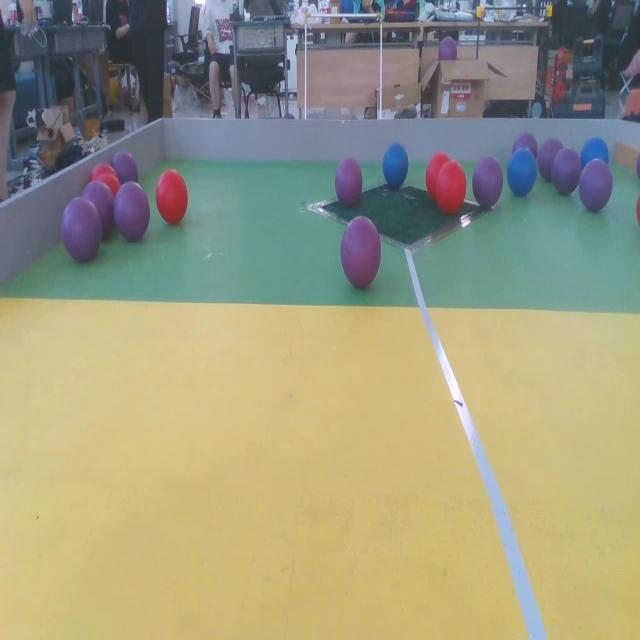blue: (508, 146, 537, 194), (580, 136, 610, 177), (382, 143, 409, 188)
invalid: (339, 214, 385, 289), (62, 197, 101, 263), (115, 179, 154, 239), (579, 161, 615, 214), (331, 156, 365, 206), (474, 156, 503, 209), (554, 148, 582, 194)
red: (157, 171, 187, 225), (435, 158, 466, 210), (426, 152, 450, 194), (96, 174, 118, 197), (91, 161, 112, 184)
